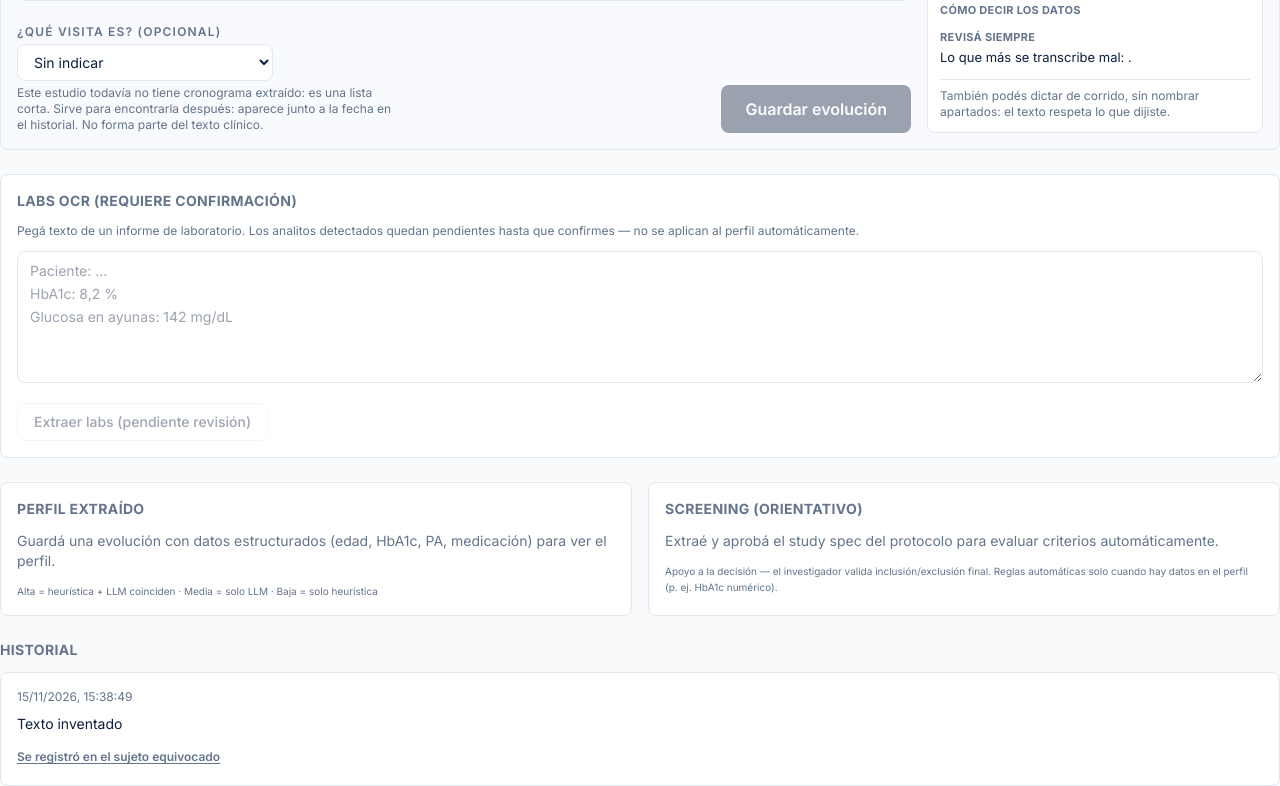
Test: historia de evoluciones: la hora se muestra en la zona del centro › el texto que nombra la evolución al declararla por error usa la misma hora
(page scrolled)
Click the button "Se registró en el sujeto equivocado": (119, 757) left=17, top=749, right=220, bottom=765
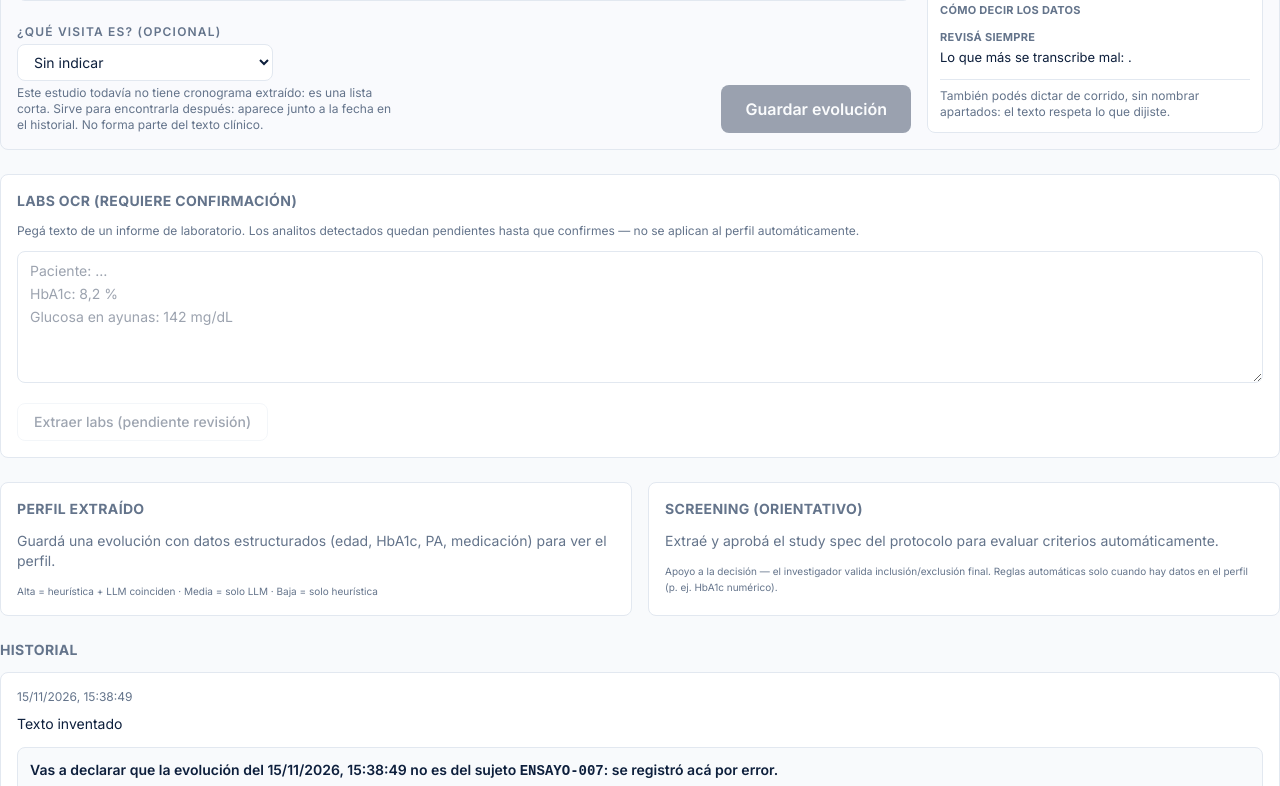
Now the text "la evolución del 15/11/2026, 15:38:49 no es del sujeto" is shown, box left=30, top=761, right=778, bottom=779
